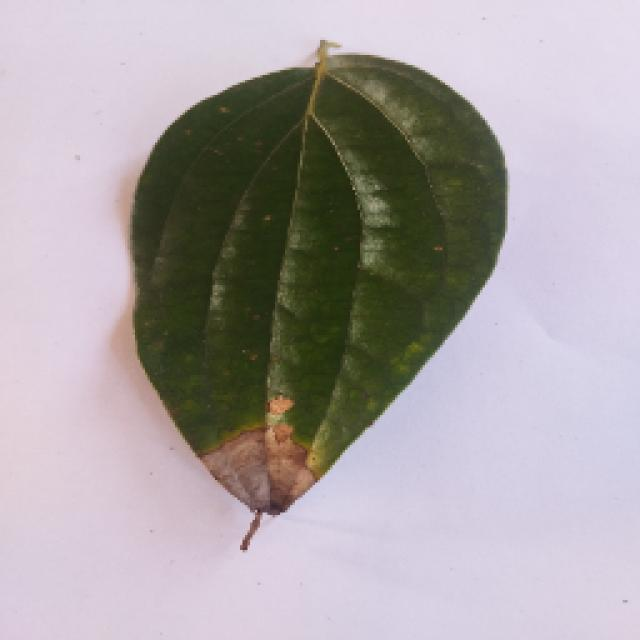footrot: (113, 42, 515, 540)
